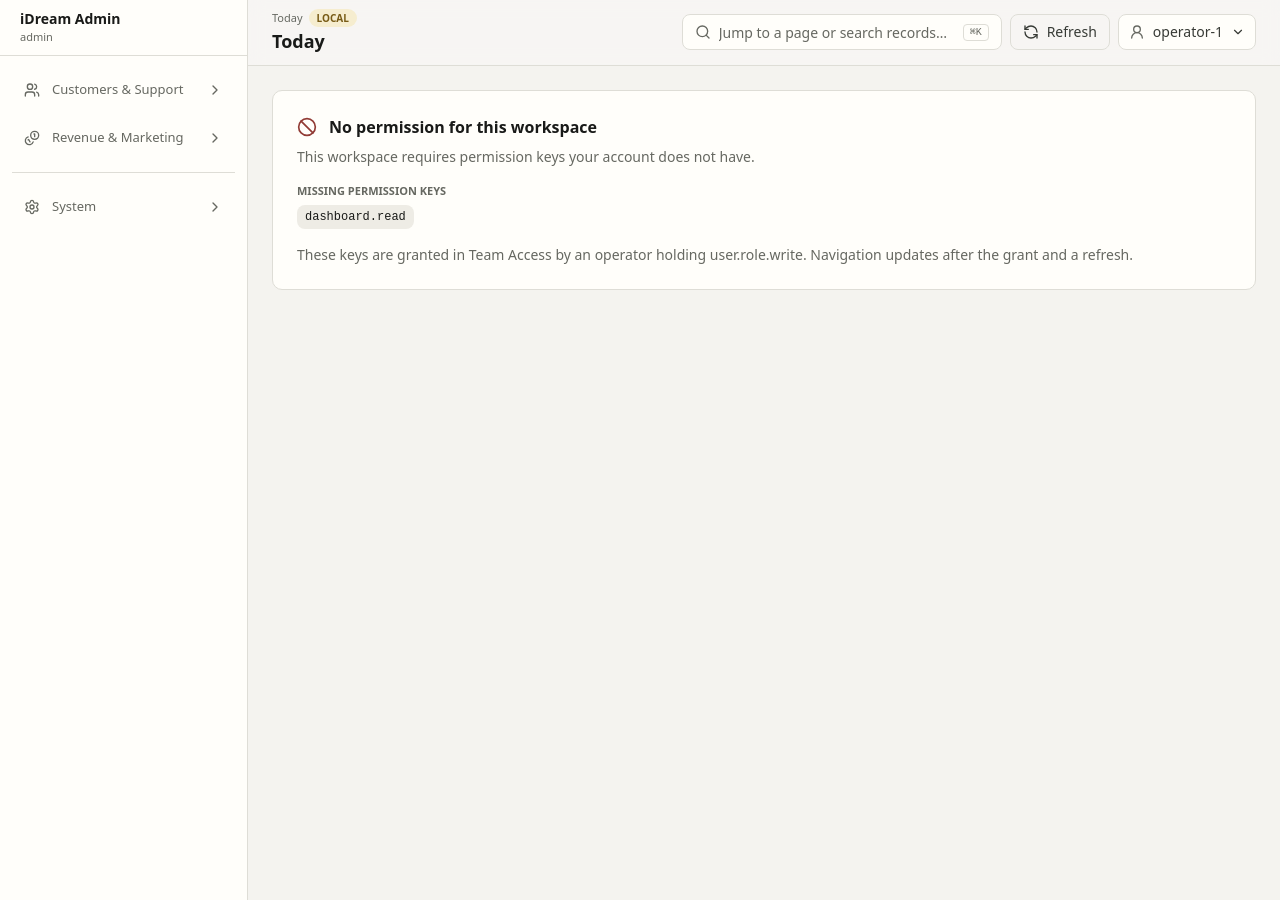
Test: admin shell keyboard and account menu › shows business groups immediately and expands without navigating to an arbitrary page
Click the button "System" at (124, 207), box [12, 185, 235, 229]
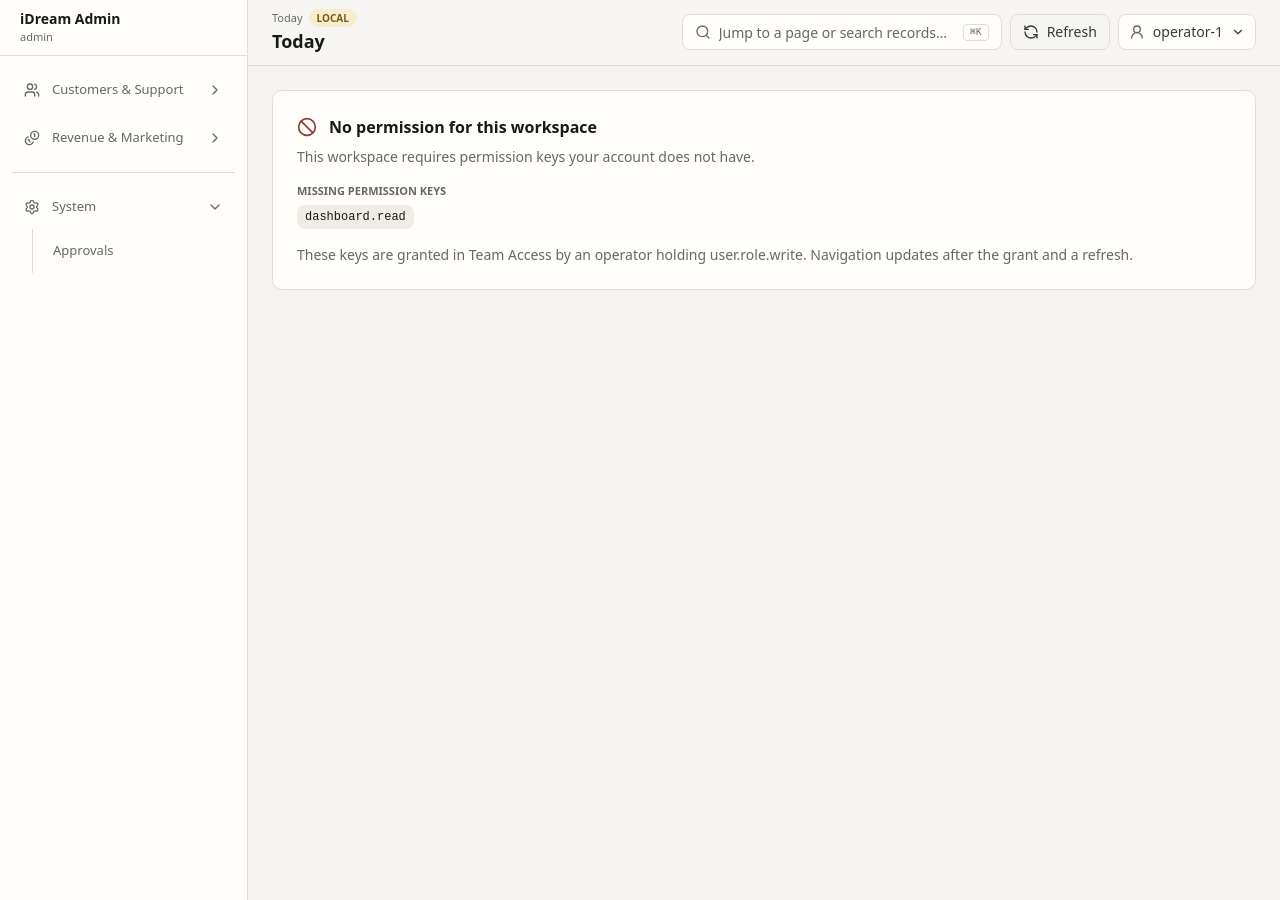
Now the button "System" is expanded, box [12, 185, 235, 229]
